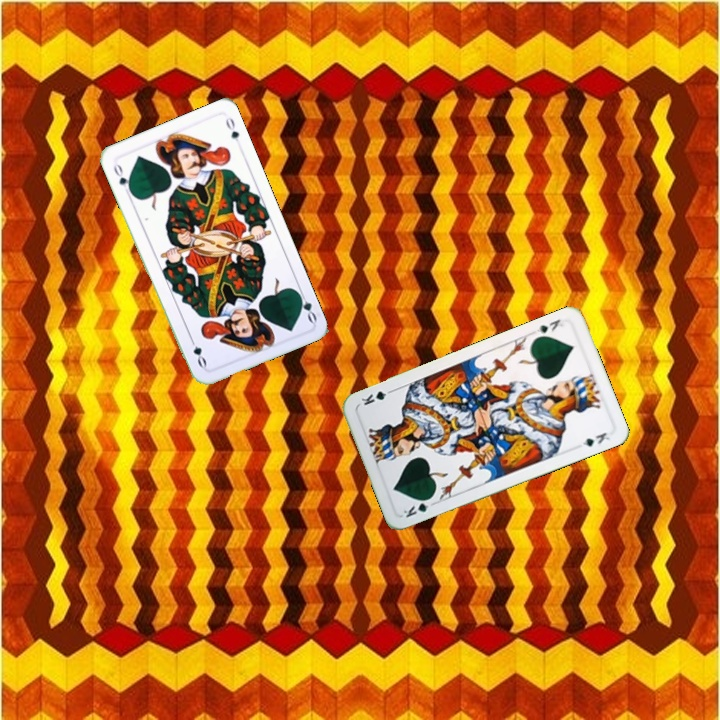GK: (399, 493, 438, 520), (533, 315, 565, 336)
GO: (293, 286, 320, 325), (109, 159, 134, 196)
